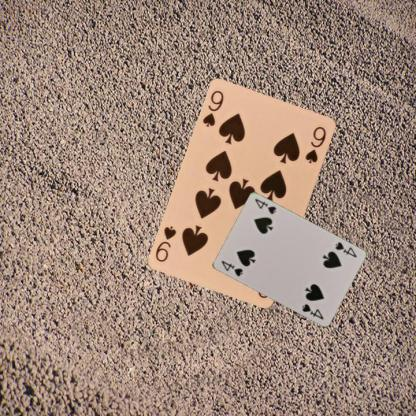4s: (218, 258, 244, 278), (332, 239, 358, 259)
9s: (200, 88, 225, 129)
